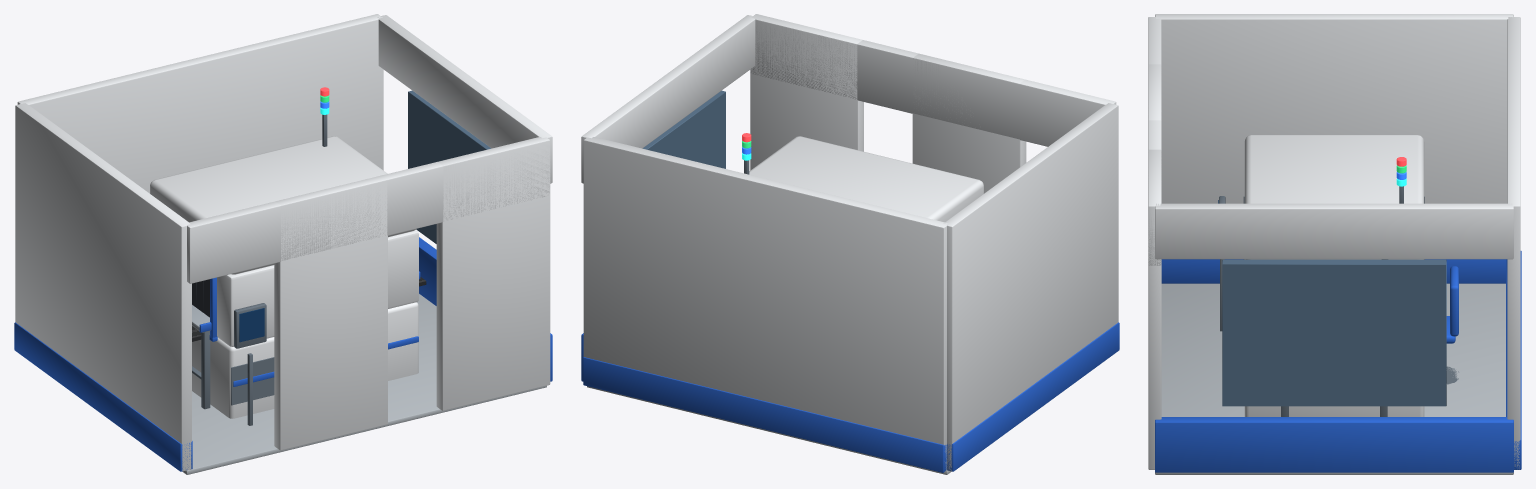
File: screening.glb
The picture shows the model from 3 angles, left to right: view 1: azimuth 30°, elevation 25°; view 2: azimuth 150°, elevation 25°; view 3: azimuth 270°, elevation 25°; orthographic projection. The views are drawn at different scales.
Visible parts, largest first — view 1: search_room_walls, ct_scanner_body, search_table_body; view 2: search_room_walls, ct_scanner_body; view 3: search_room_walls, ct_scanner_body, review_desk_body.
Part boxes in pixels (<box>): search_room_walls: <box>14,14,552,474</box>; ct_scanner_body: <box>150,114,418,425</box>; search_table_body: <box>192,271,420,409</box>; search_room_walls: <box>581,14,1119,474</box>; ct_scanner_body: <box>744,136,983,222</box>; search_room_walls: <box>1148,14,1521,474</box>; ct_scanner_body: <box>1218,135,1424,416</box>; review_desk_body: <box>1446,266,1458,384</box>.
Bounding box in the file's own units: 4.13 × 2.65 × 3.33.
20 materials, 1 textured.
